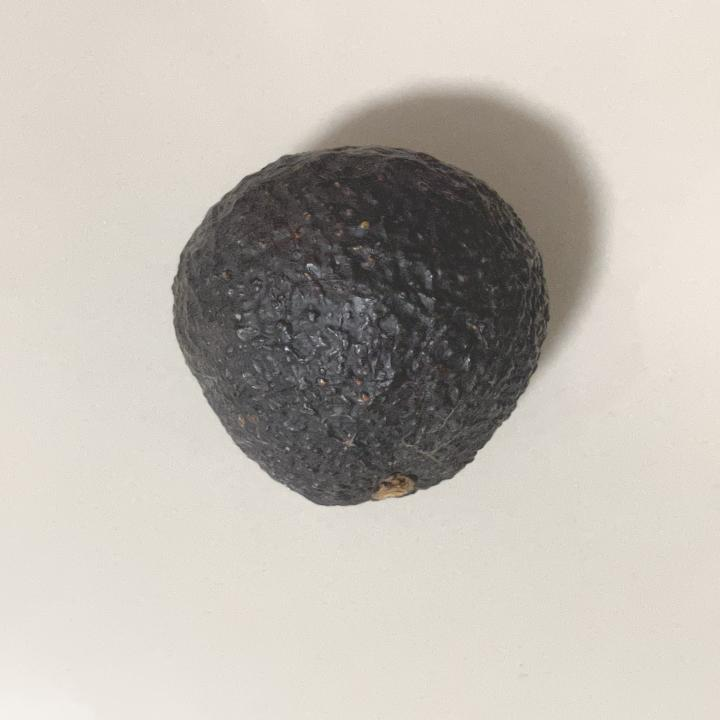Level3: (157, 138, 565, 520)
